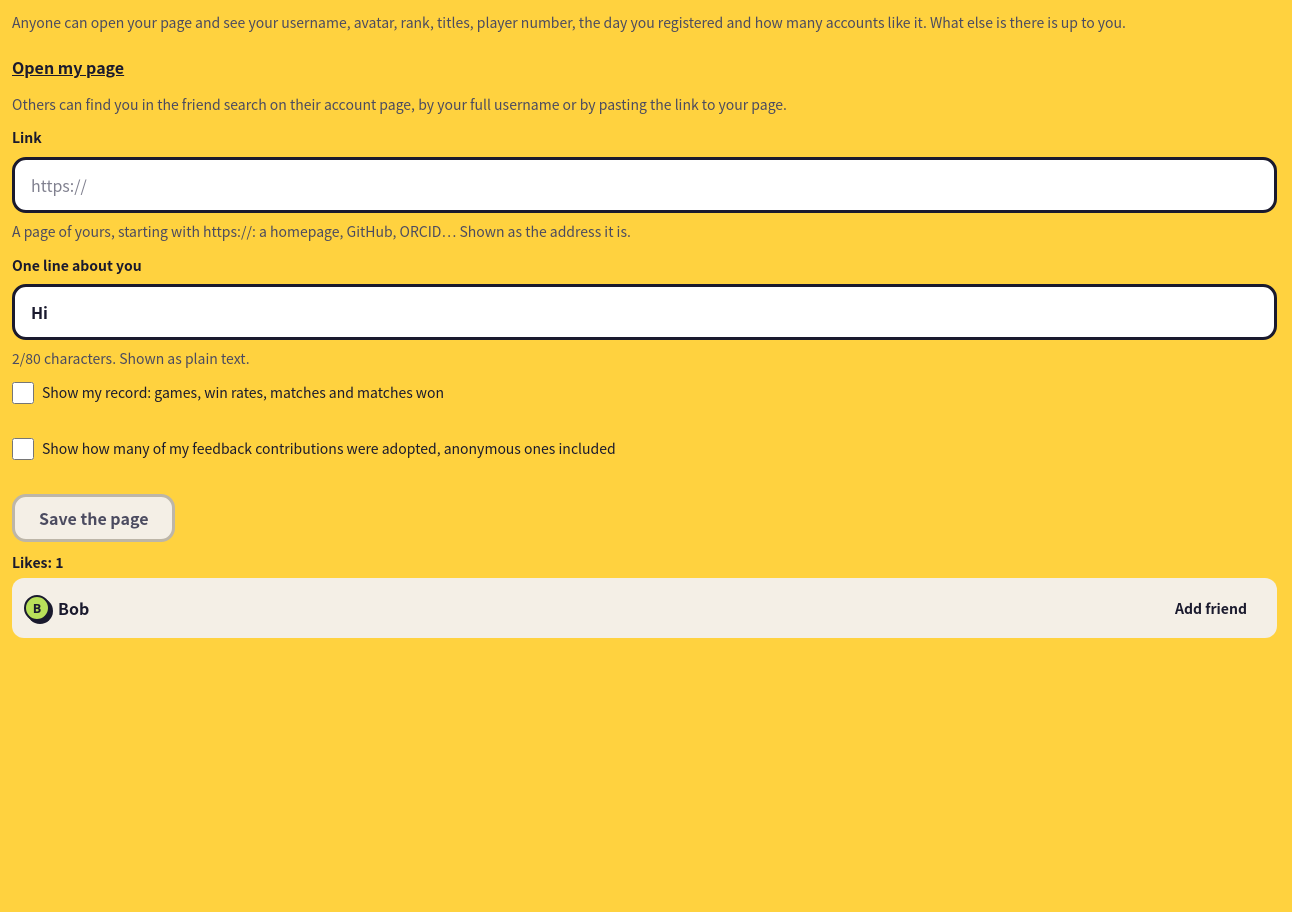
Test case: ProfilePublic › lists who liked the page, asks them to be friends, and asks again when the friends change
Check: the list item with class "line" shows "Bob", box [58, 596, 89, 620]
Click the button "Add friend". click: click(1211, 608)
box: [1157, 586, 1265, 630]
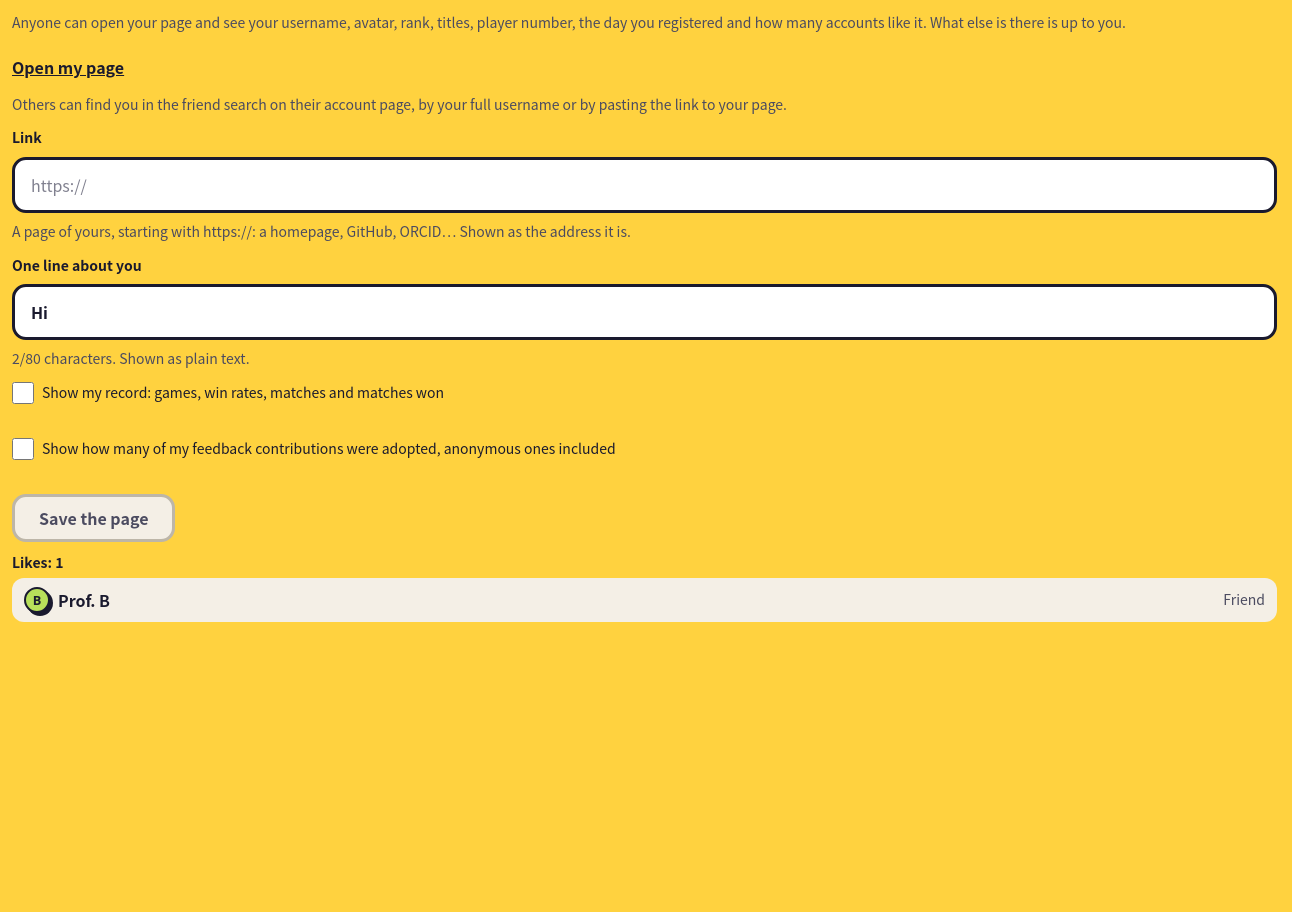
Check: the list item with class "line" shows "Friend", box [1223, 589, 1265, 609]
Check: the text with class "name" reads "Prof. B", box [58, 588, 110, 612]
